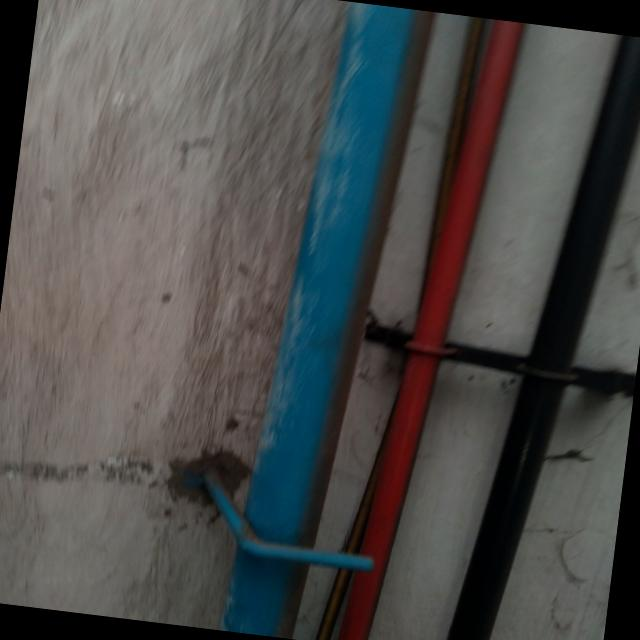gas: (221, 3, 426, 639), (445, 35, 640, 640), (334, 19, 521, 640)
